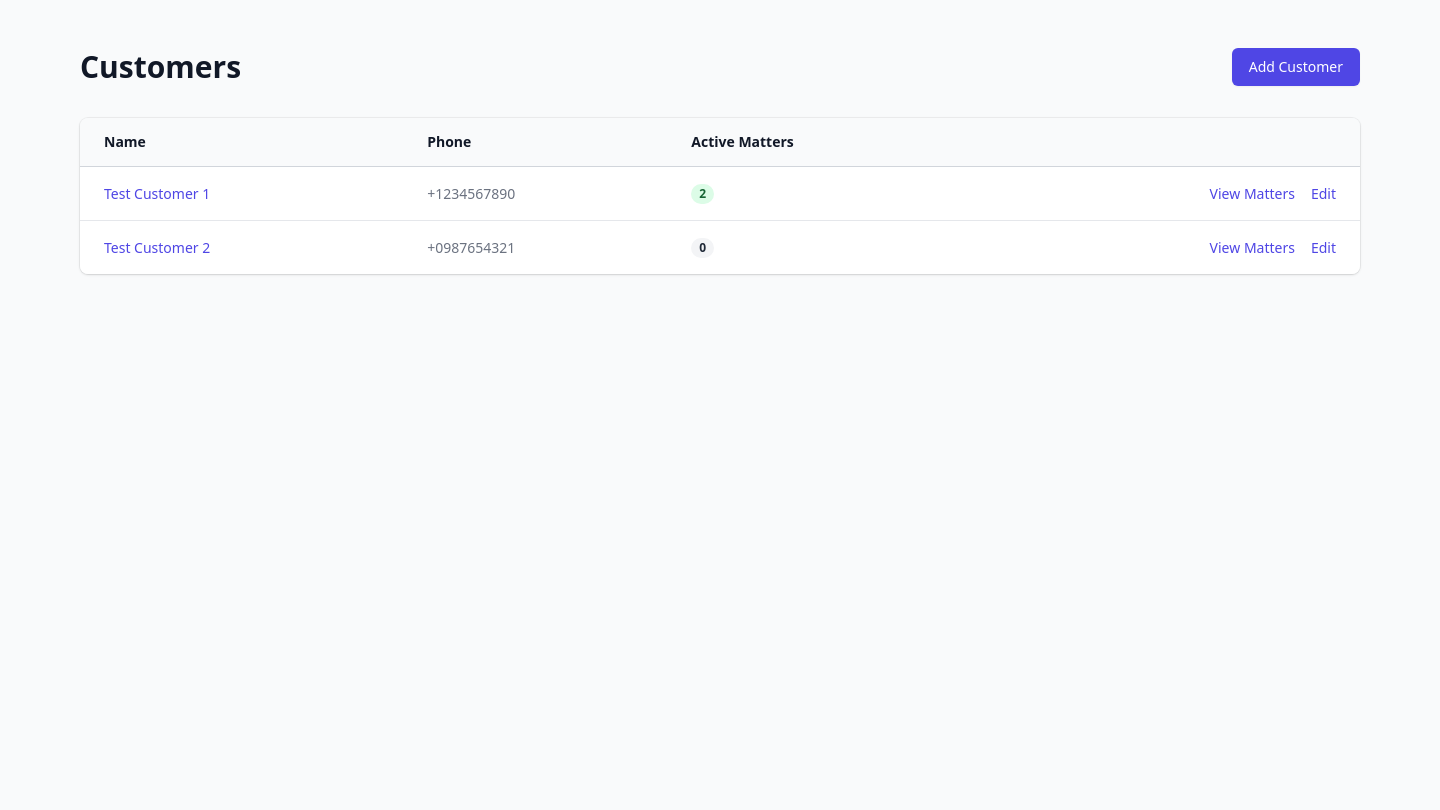
it: CustomerList Component › opens customer form when Edit button is clicked
Expected: the link "Test Customer 1" is shown, [104,184,210,202]
Step 1. Click the button "Edit" in the row of "Test Customer 1" → (1323, 194), box [1311,184,1336,204]
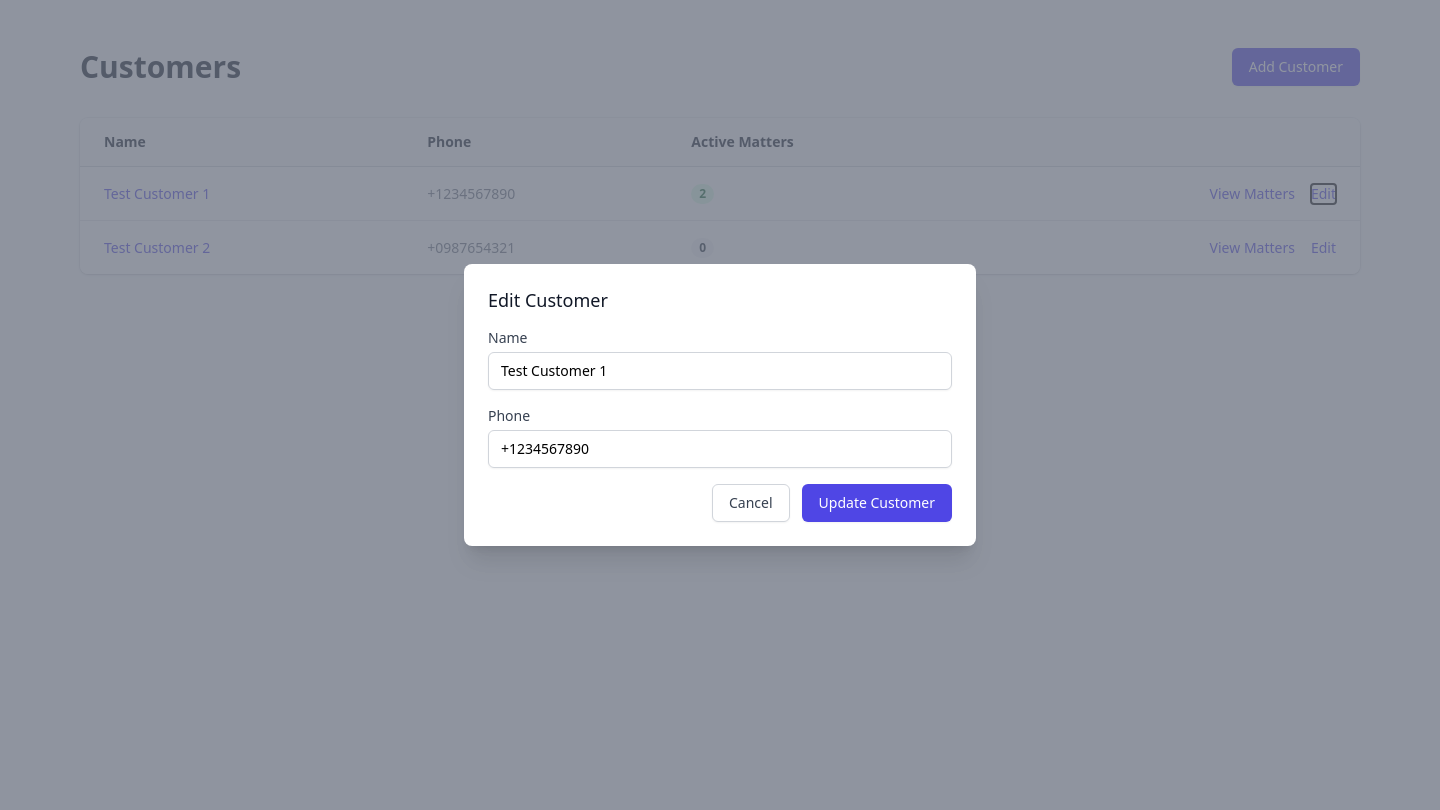
Now the heading "Edit Customer" is shown, box [488,288,608,312]
Now the field showing "Test Customer 1" is shown, box [488,352,952,390]
Now the field showing "+1234567890" is shown, box [488,430,952,468]
